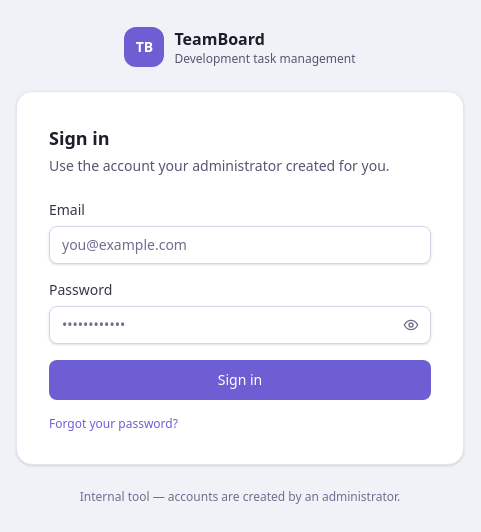
Test case: LoginPage › validates the email format
Type "not-an-email" into the field labelled "Email" at (240, 245), box [49,226,431,264]
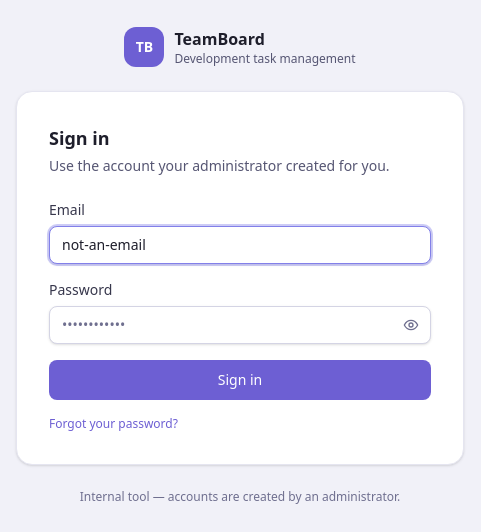
Type "whatever" into the password field labelled "Password" at (240, 325), box [49,306,431,344]
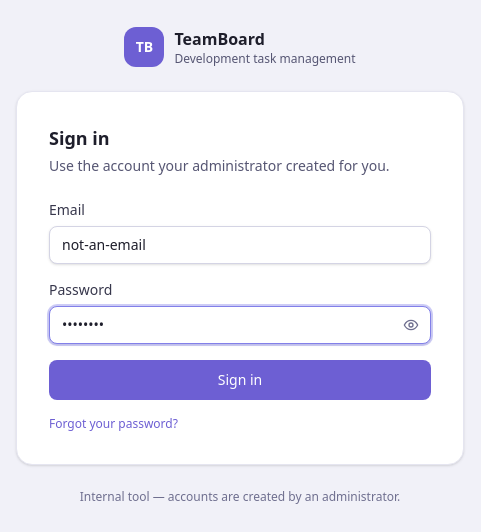
Click the button "Sign in" at (240, 380), box [49,360,431,400]
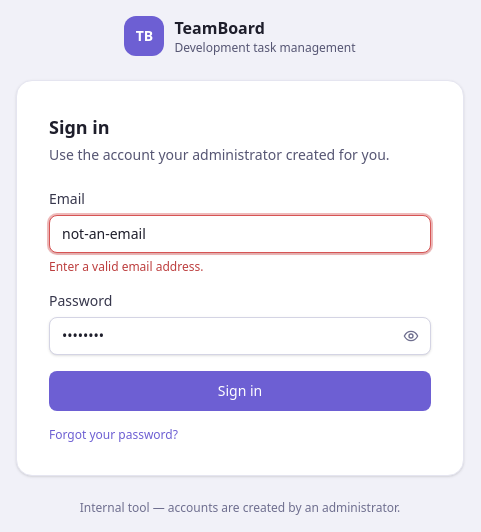
Expected: the text "Enter a valid email address." is shown, [49,258,203,275]
